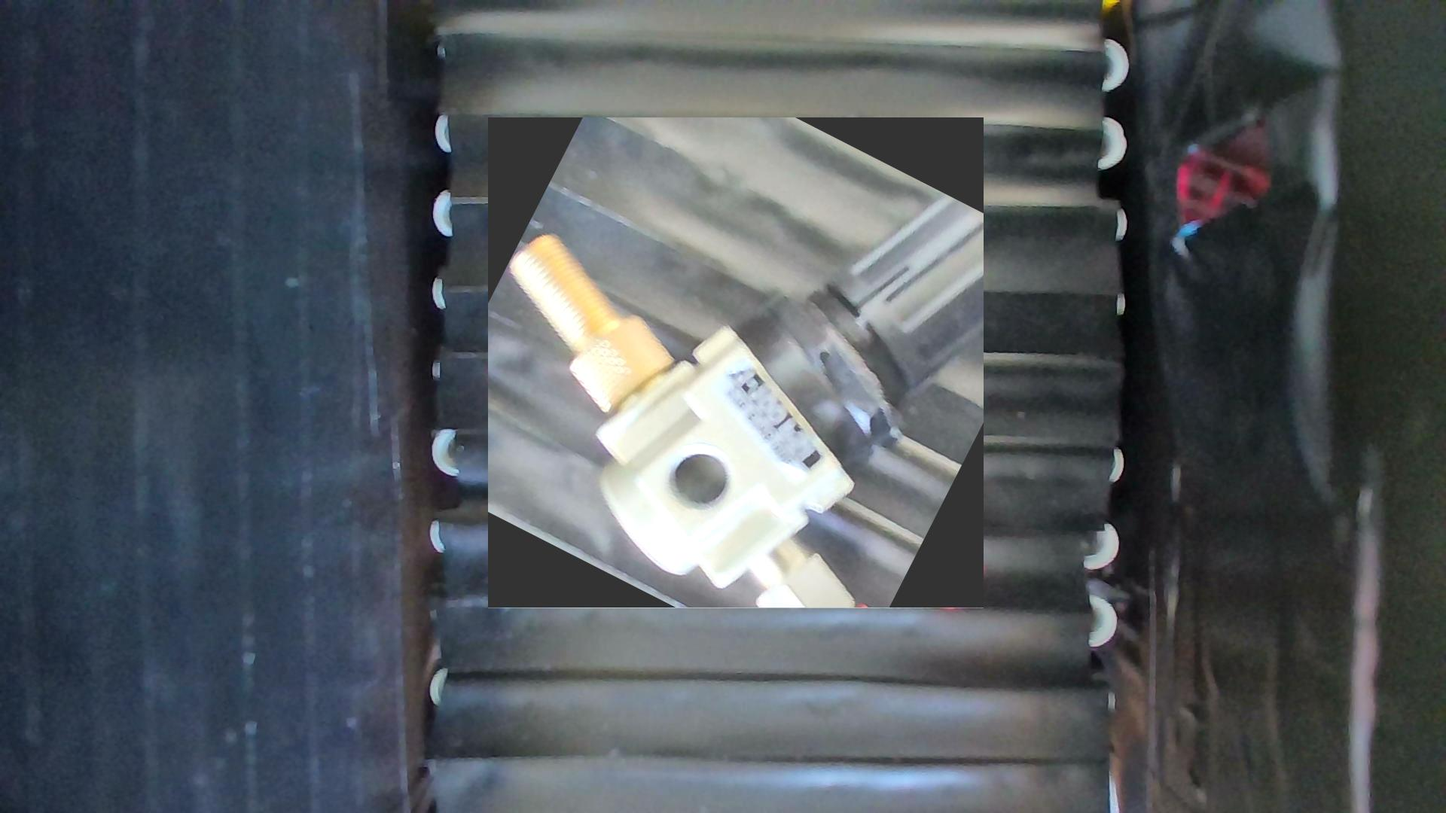regulator: (488, 118, 984, 609)
